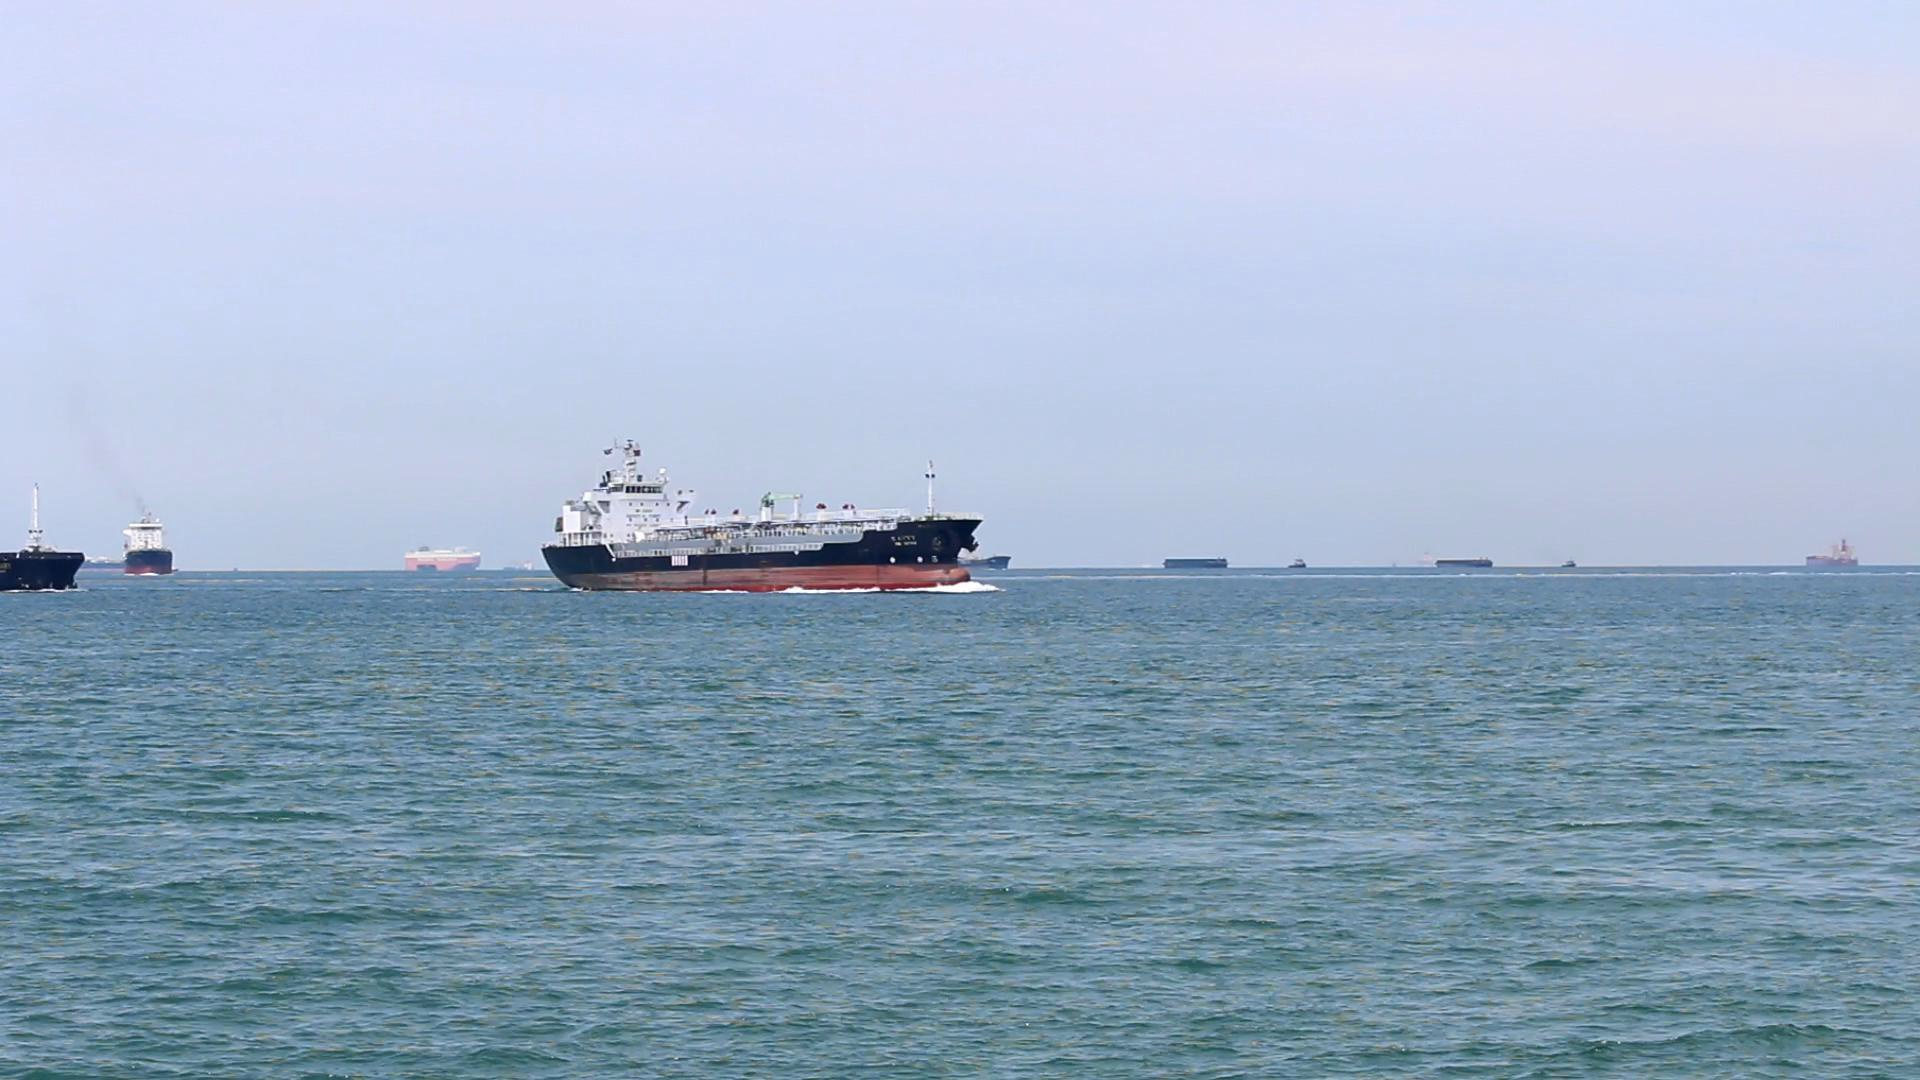Container Ship: (535, 430, 990, 596), (1, 475, 91, 596), (127, 508, 178, 576), (401, 545, 481, 576), (1805, 534, 1867, 574), (957, 550, 1010, 574), (92, 553, 128, 575)
